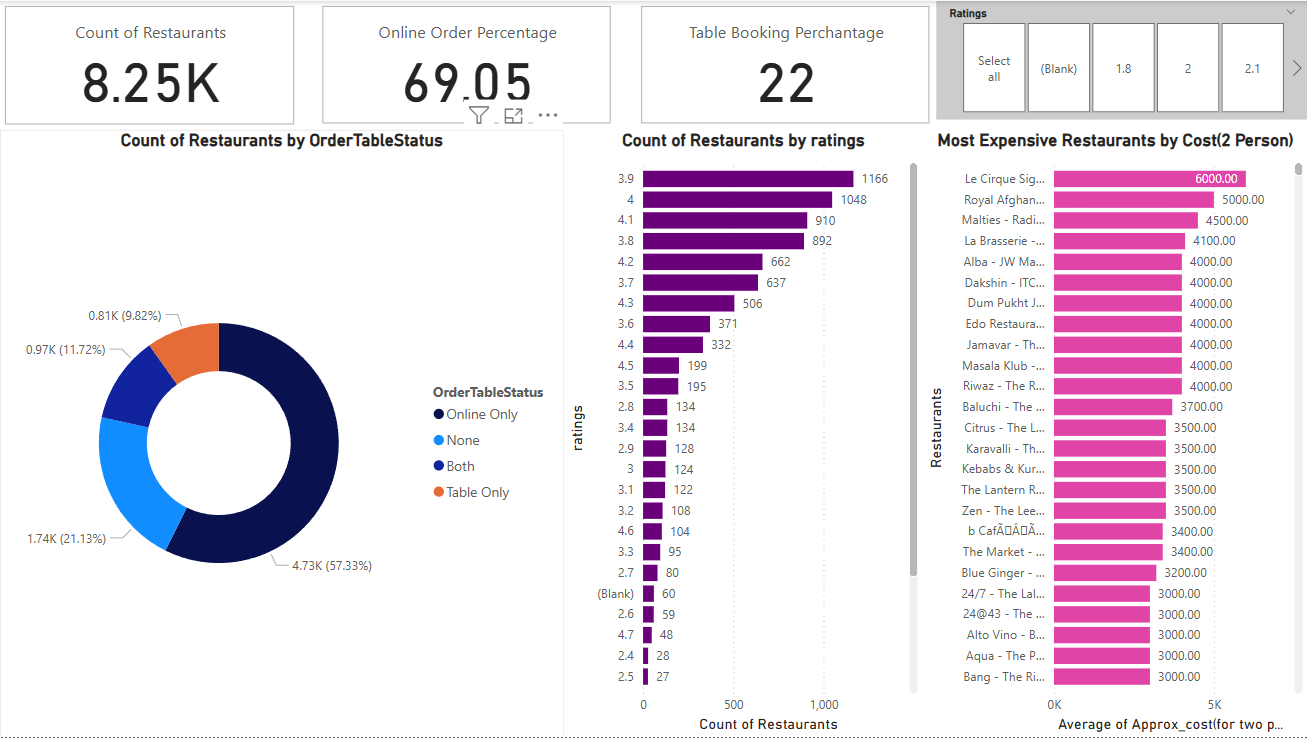

The page's visual inventory and layout, read from the dashboard file:
{"tool":"powerbi","page":{"name":"Page 1","canvas":[1280,720],"ordinal":0},"visuals":[{"type":"cardVisual","fields":{"Data":["CountNonNull(zomato_cleaned.Name)"]},"box":[0,0,293.7,126.2],"z":0},{"type":"cardVisual","fields":{"Data":["zomato_cleaned.Online Order Percentage"]},"box":[310,0,292.9,125.7],"z":1000},{"type":"cardVisual","fields":{"Data":["zomato_cleaned.Table Booking Perchantage"]},"box":[622.9,0,292.9,125.7],"z":2000},{"type":"donutChart","fields":{"Category":["zomato_cleaned.OrderTableStatus"],"Y":["CountNonNull(zomato_cleaned.Restaurants)"]},"box":[0,125.7,551.4,594.3],"z":3000},{"type":"barChart","fields":{"Category":["zomato_cleaned.ratings"],"Y":["CountNonNull(zomato_cleaned.Restaurants)"]},"box":[551.4,125.7,351.4,594.3],"z":4000},{"type":"barChart","title":"Most Expensive Restaurants by Cost(2 Person)","fields":{"Category":["zomato_cleaned.Restaurants"],"Y":["Avg(zomato_cleaned.Approx_cost(for two people))"]},"box":[902.9,125.7,377.1,594.3],"z":5000},{"type":"slicer","fields":{"Values":["zomato_cleaned.ratings"]},"box":[915.7,0,364.3,115.7],"z":6000}]}

Visuals, with their boxes in screenshot pixels (x1, y1, x2, y2), scaled from the page's 1280x720 canvas onto the 1307x738 screenshot:
cardVisual - CountNonNull(zomato_cleaned.Name): bbox(0, 0, 300, 129)
cardVisual - zomato_cleaned.Online Order Percentage: bbox(317, 0, 616, 129)
cardVisual - zomato_cleaned.Table Booking Perchantage: bbox(636, 0, 935, 129)
donutChart - zomato_cleaned.OrderTableStatus x CountNonNull(zomato_cleaned.Restaurants): bbox(0, 129, 563, 737)
barChart - zomato_cleaned.ratings x CountNonNull(zomato_cleaned.Restaurants): bbox(563, 129, 922, 737)
"Most Expensive Restaurants by Cost(2 Person)" barChart: bbox(922, 129, 1306, 737)
slicer - zomato_cleaned.ratings: bbox(935, 0, 1306, 119)
